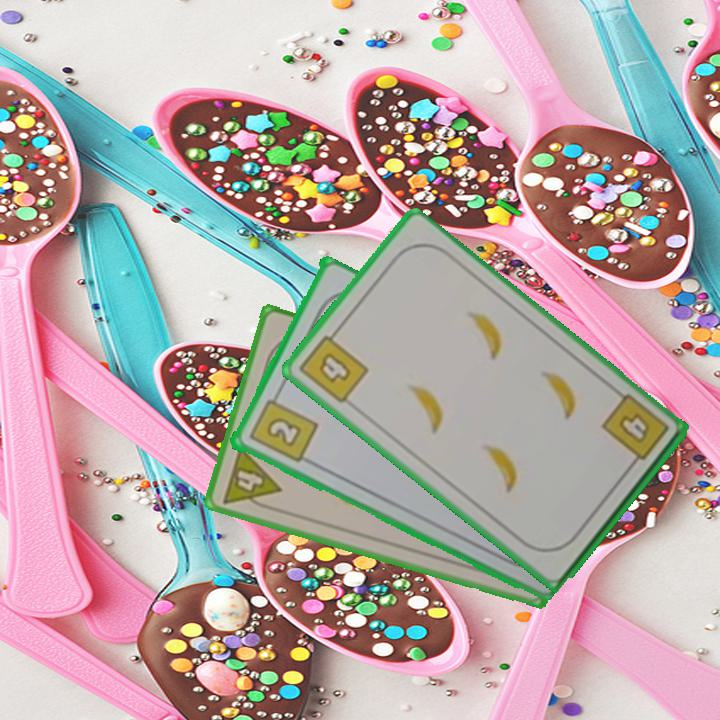2b: (245, 388, 320, 466)
4b: (295, 324, 371, 407), (597, 390, 672, 472)
4p: (218, 442, 284, 515)
